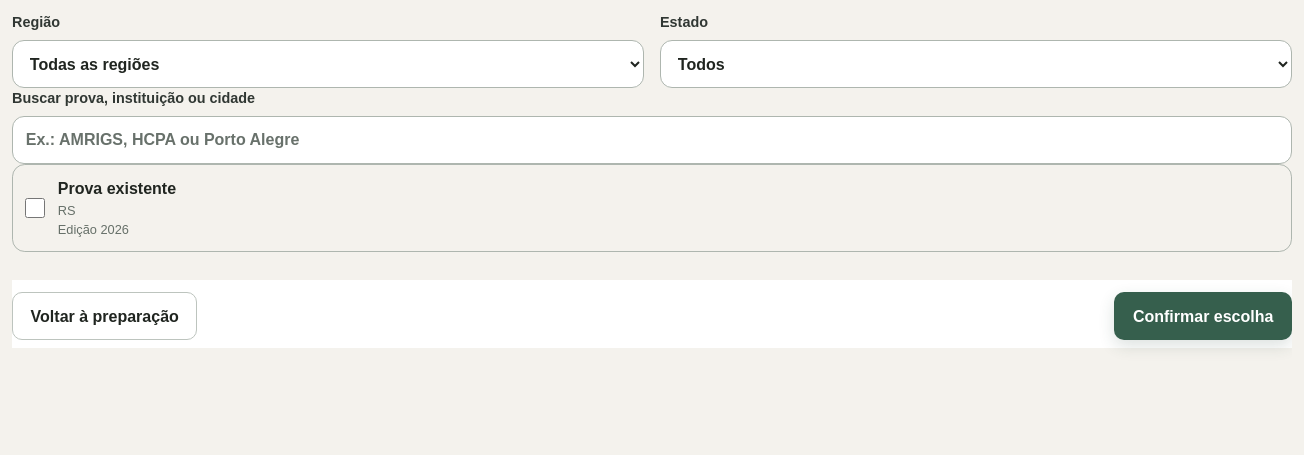
Scenario: seleção persistente de provas › mantém seleção após erro de rede e confirma somente depois da gravação
This screenshot has width=1304, height=455.
Click the checkbox.
click(35, 208)  # box [25,198,45,218]
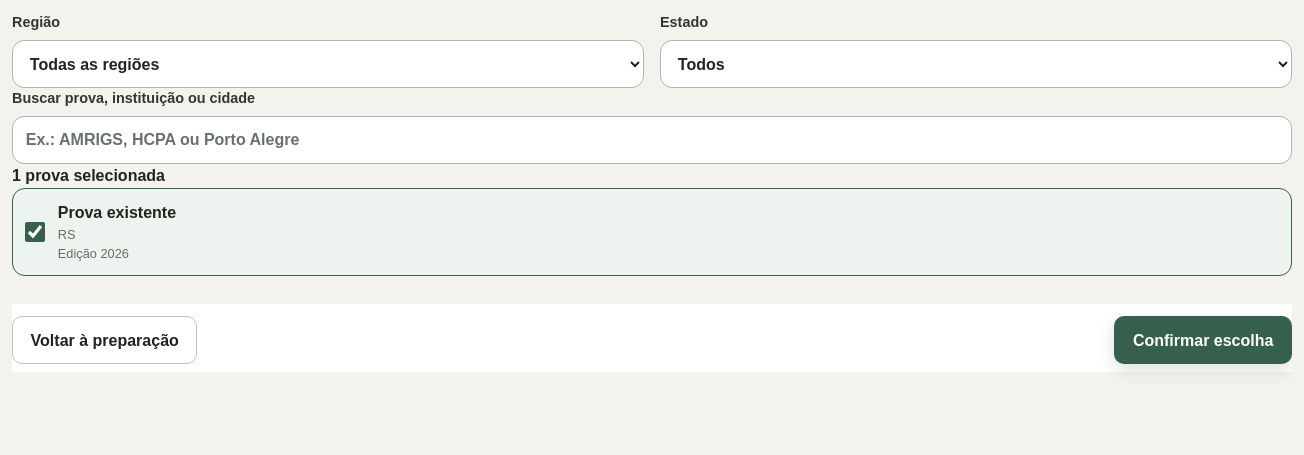
Click the button "Confirmar escolha".
click(1203, 340)  # box [1114,316,1292,364]
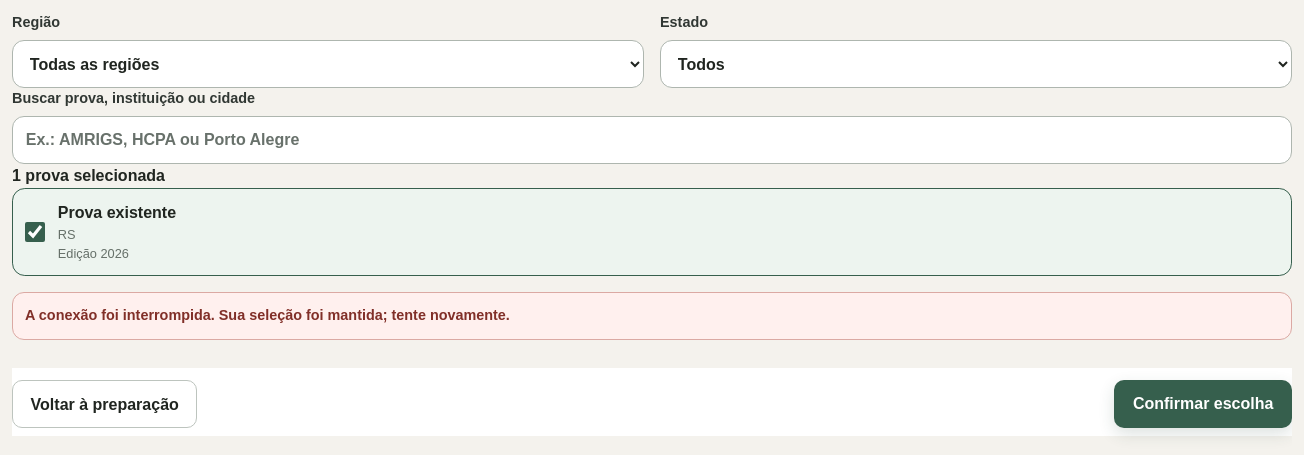
Check: the text "Provas salvas" is not shown
Check: the checkbox is checked, box [25,222,45,242]
Check: the message shows "Sua seleção foi mantida", box [25,307,510,323]
Click the button "Confirmar escolha".
click(1203, 404)  # box [1114,380,1292,428]
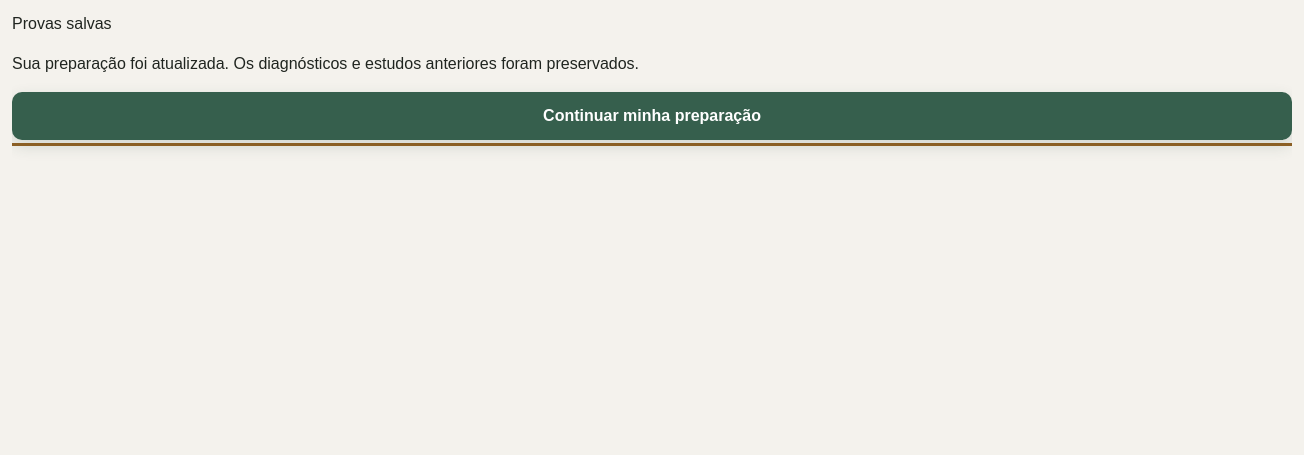
Check: the heading "Provas salvas" is shown, box [12,15,112,32]
